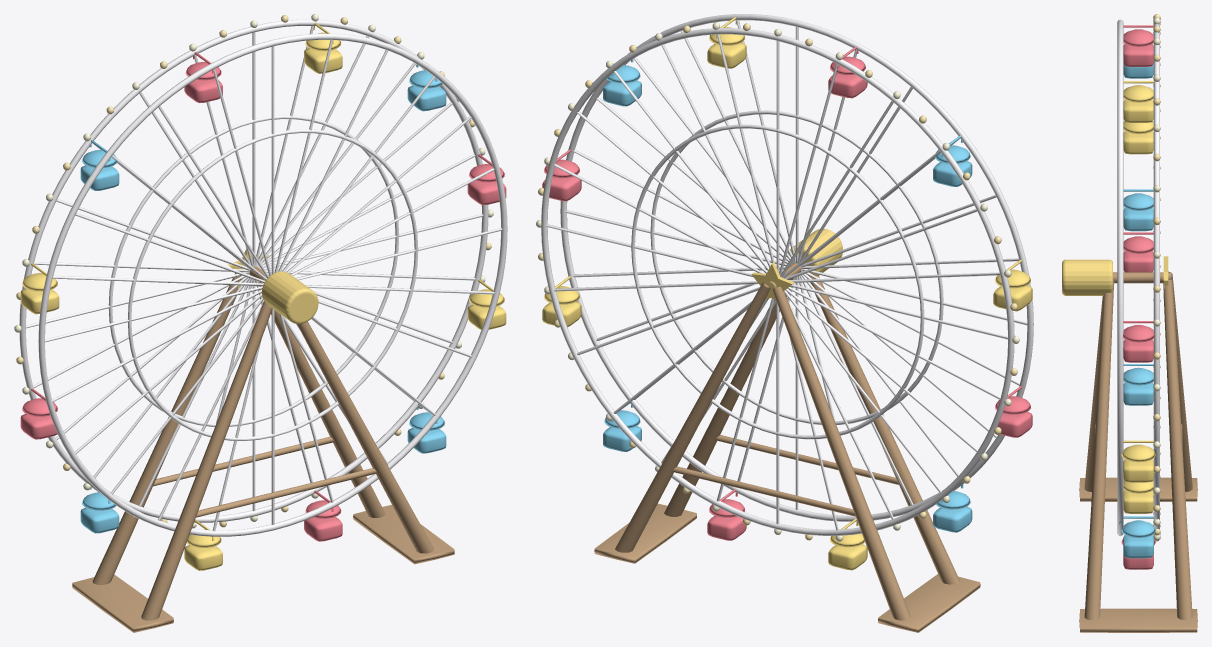
File: PumpFerrisWheel.glb
The picture shows the model from 3 angles, left to right: view 1: azimuth 30°, elevation 25°; view 2: azimuth 150°, elevation 25°; view 3: azimuth 270°, elevation 25°; orthographic projection. The views are drawn at different scales.
Visible parts, largest first — view 1: Wheel, Frame, CarsB, CarsC, CarsA, Hub, BulbsA, BulbsB; view 2: Wheel, Frame, CarsC, CarsA, CarsB, Hub, BulbsA, BulbsB; view 3: Frame, Wheel, CarsC, CarsB, CarsA, Hub, BulbsA, BulbsB.
Part boxes in pixels (x1,y1,x2,y2): Wheel: (19, 19, 507, 536); Frame: (72, 266, 454, 632); CarsB: (80, 64, 446, 533); CarsC: (20, 22, 506, 570); CarsA: (20, 52, 506, 541); Hub: (228, 245, 318, 323); BulbsA: (14, 14, 493, 528); BulbsB: (16, 15, 491, 527); Wheel: (541, 14, 1033, 535); Frame: (594, 263, 980, 632); CarsC: (542, 17, 1032, 570); CarsA: (542, 46, 1032, 540); CarsB: (603, 59, 972, 532); Hub: (751, 228, 842, 300); BulbsA: (536, 22, 1019, 541); BulbsB: (538, 23, 1017, 540); Frame: (1079, 271, 1197, 632); Wheel: (1117, 19, 1159, 535); CarsC: (1120, 81, 1155, 513); CarsB: (1119, 63, 1155, 558); CarsA: (1119, 25, 1155, 569); Hub: (1062, 256, 1168, 300); BulbsA: (1153, 17, 1160, 540); BulbsB: (1153, 14, 1160, 541).
Bounding box in the file's own units: 57.9 × 63.36 × 14.9.
